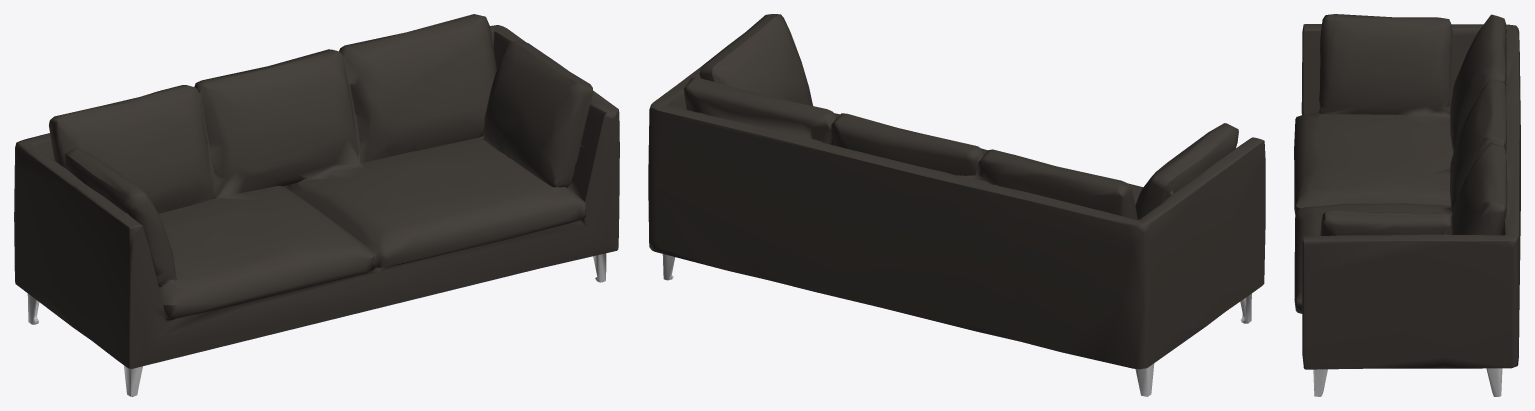
The model's file is STOCKHOLM sofa - Seglora dark brown.glb.
3 renders of one model, left to right at view 1: azimuth 30°, elevation 25°; view 2: azimuth 150°, elevation 25°; view 3: azimuth 270°, elevation 25°, orthographic. The views are drawn at different scales.
Visible parts, largest first — view 1: ProcessedMeshNode; view 2: ProcessedMeshNode; view 3: ProcessedMeshNode.
Boxes of the visible parts, left/top/right/bottom form: ProcessedMeshNode: left=14, top=14, right=619, bottom=396; ProcessedMeshNode: left=648, top=14, right=1265, bottom=396; ProcessedMeshNode: left=1294, top=14, right=1520, bottom=396.
Bounding box in the file's own units: 2.14 × 0.8408 × 0.9379.
Materials: 1 (1 with a texture image).
